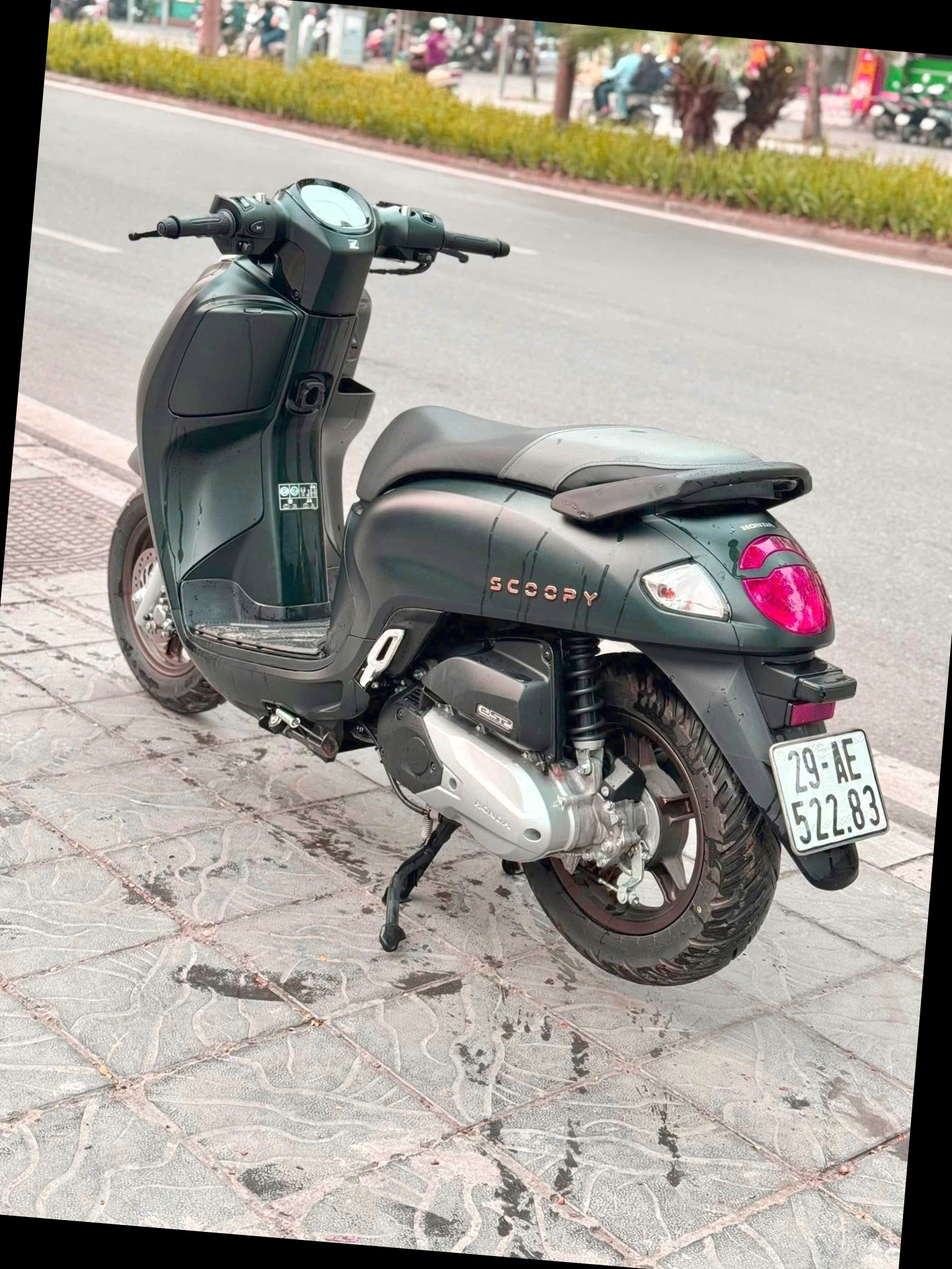Bien-so: (762, 718, 902, 863)
